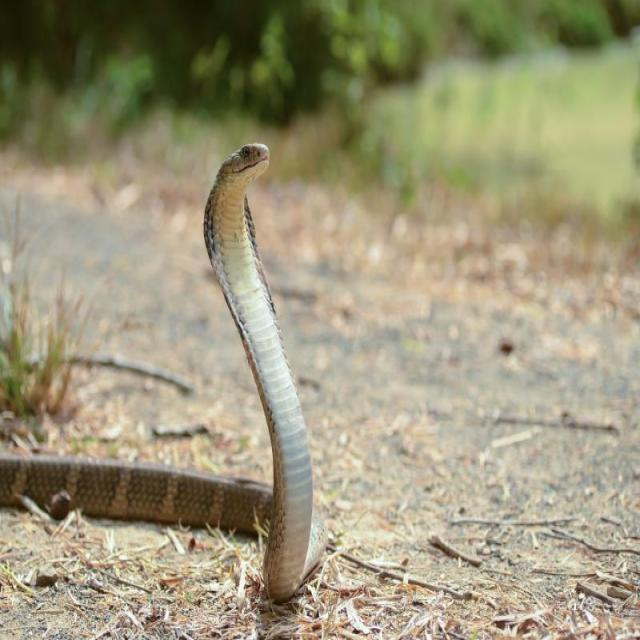Snake: (0, 139, 327, 603)
